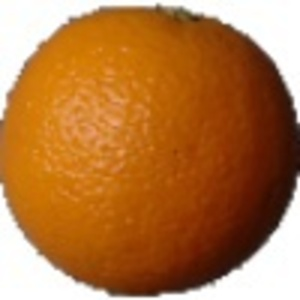laranja: (2, 2, 298, 298)
